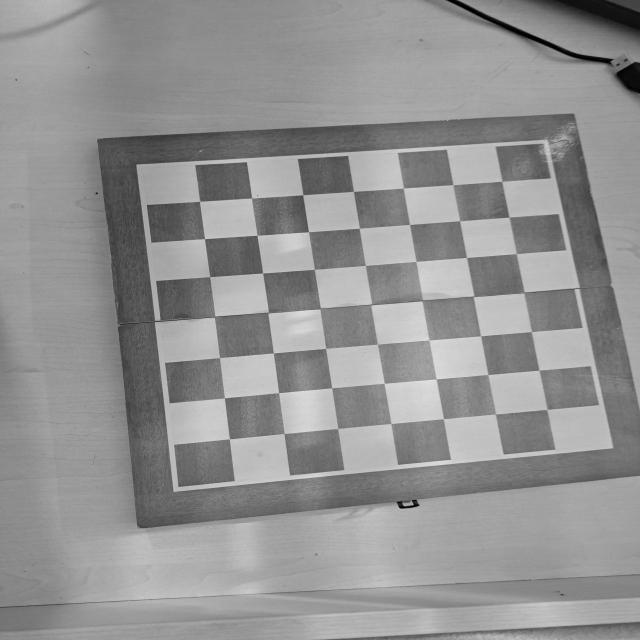chess-table-corners: (165, 478, 192, 496), (595, 437, 619, 452), (532, 136, 554, 152), (131, 162, 153, 177)
